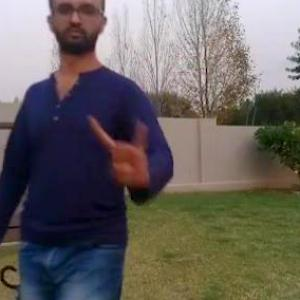takeoff-hand: (88, 113, 160, 190)
